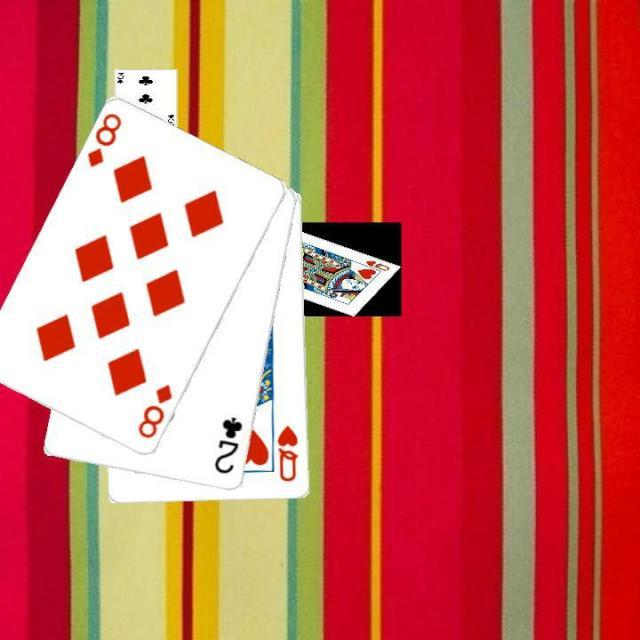2C: (210, 414, 244, 476)
8D: (134, 380, 175, 440), (84, 110, 124, 170)
QH: (274, 422, 300, 484)
